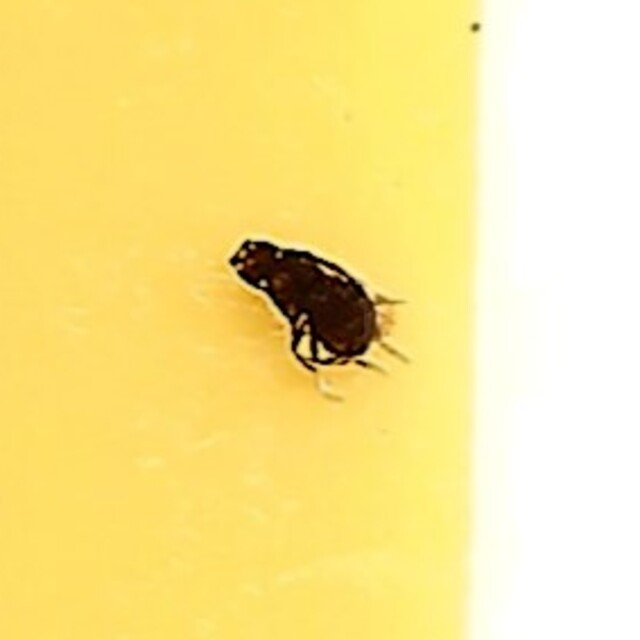Coleoptera: (226, 237, 414, 403)
